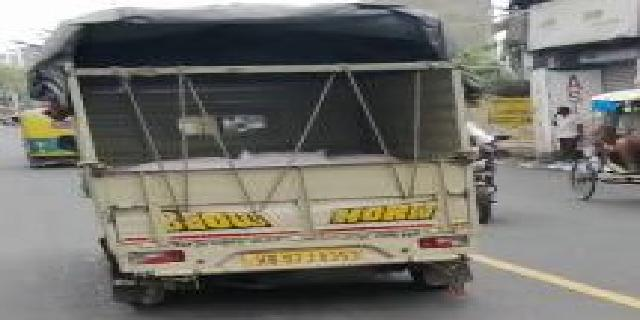Autorickshaw: (18, 103, 79, 170)
Minitruck: (43, 7, 482, 308)
